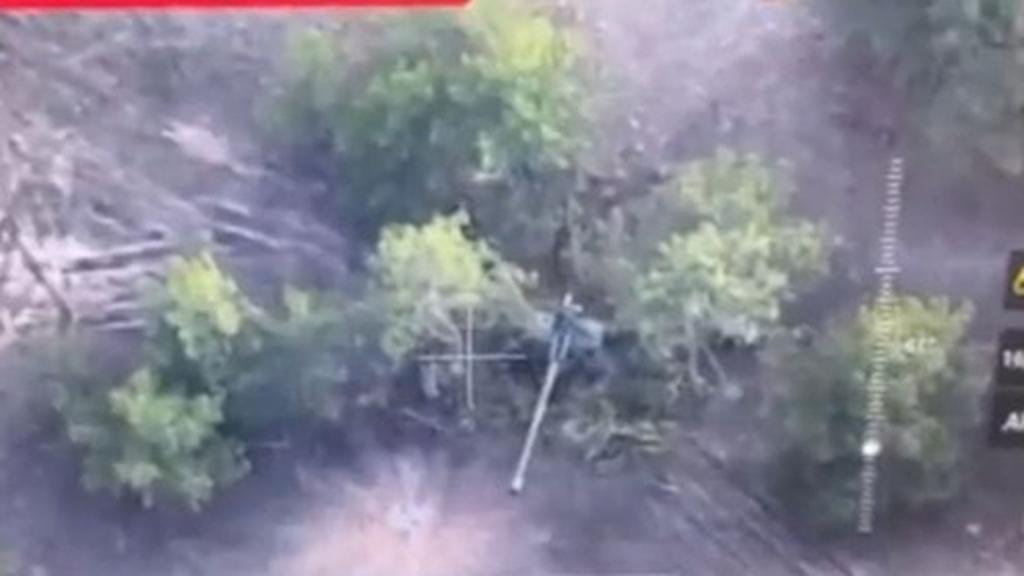ART: (502, 302, 626, 502)
